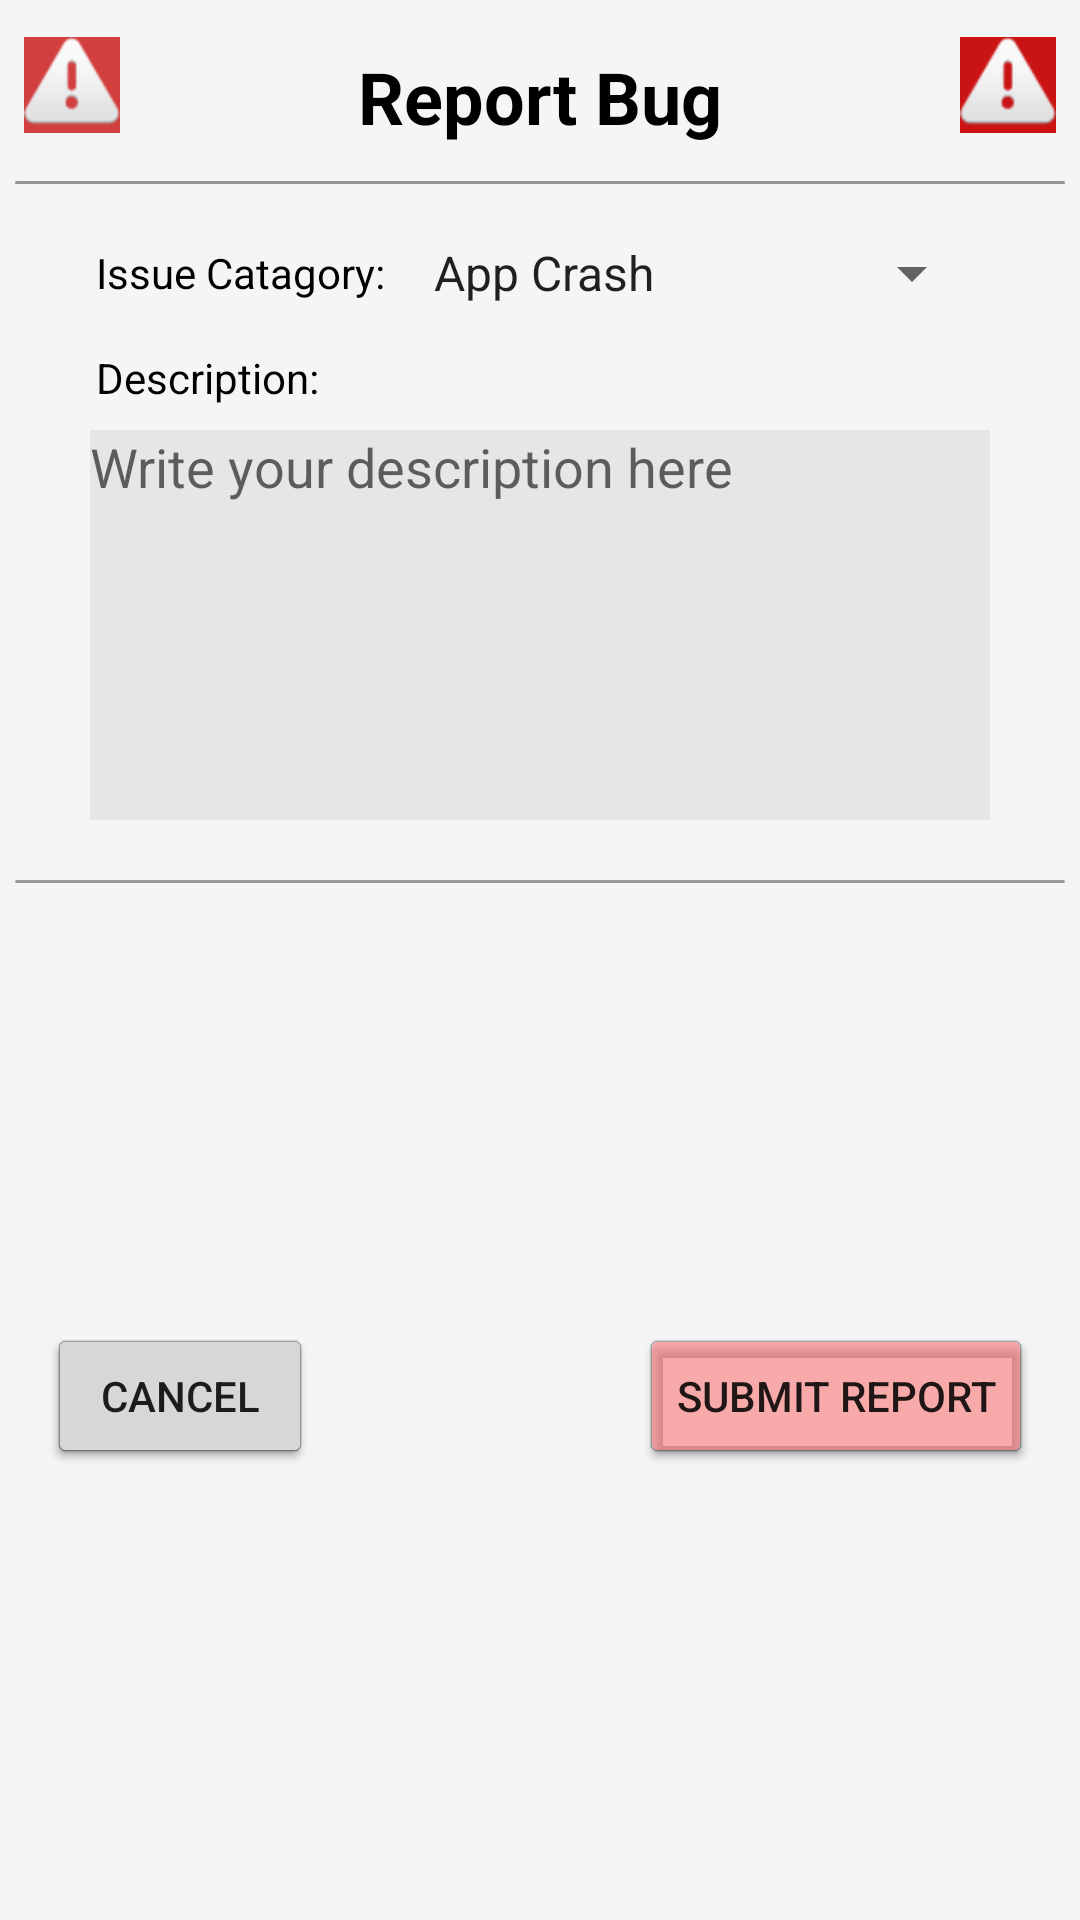

Where to tap for icons on this 1080px x 1920px app screen, as (x,y):
alert: (72,85), (1008,85)
